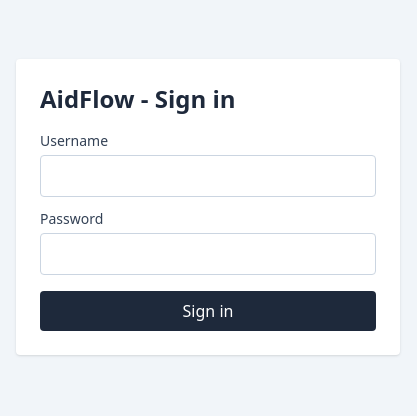
Test: login › shows a network failure
In the field labelled "Username": (208, 176) [40,155,376,197], type "alice"
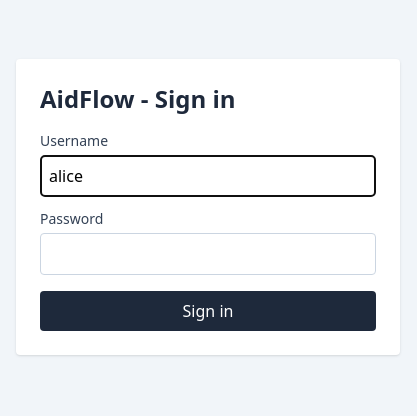
In the password field labelled "Password": (208, 254) [40,233,376,275], type "correct-horse-battery"
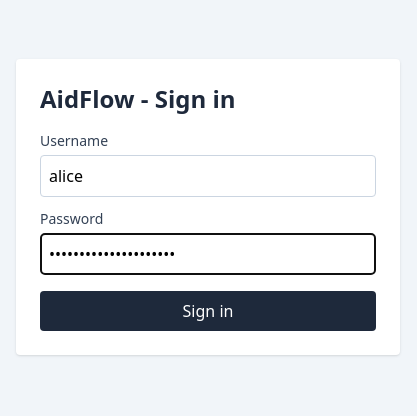
Click the button "Sign in": click(208, 311) [40,291,376,331]
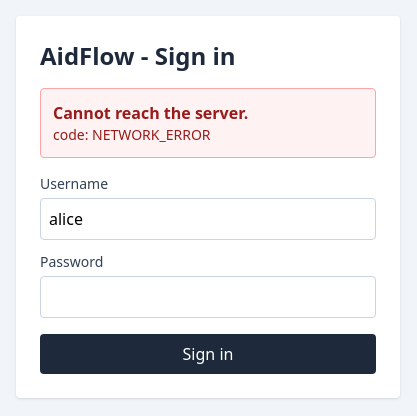
Check: the message shows "Cannot reach the server.", box [53,102,248,124]
